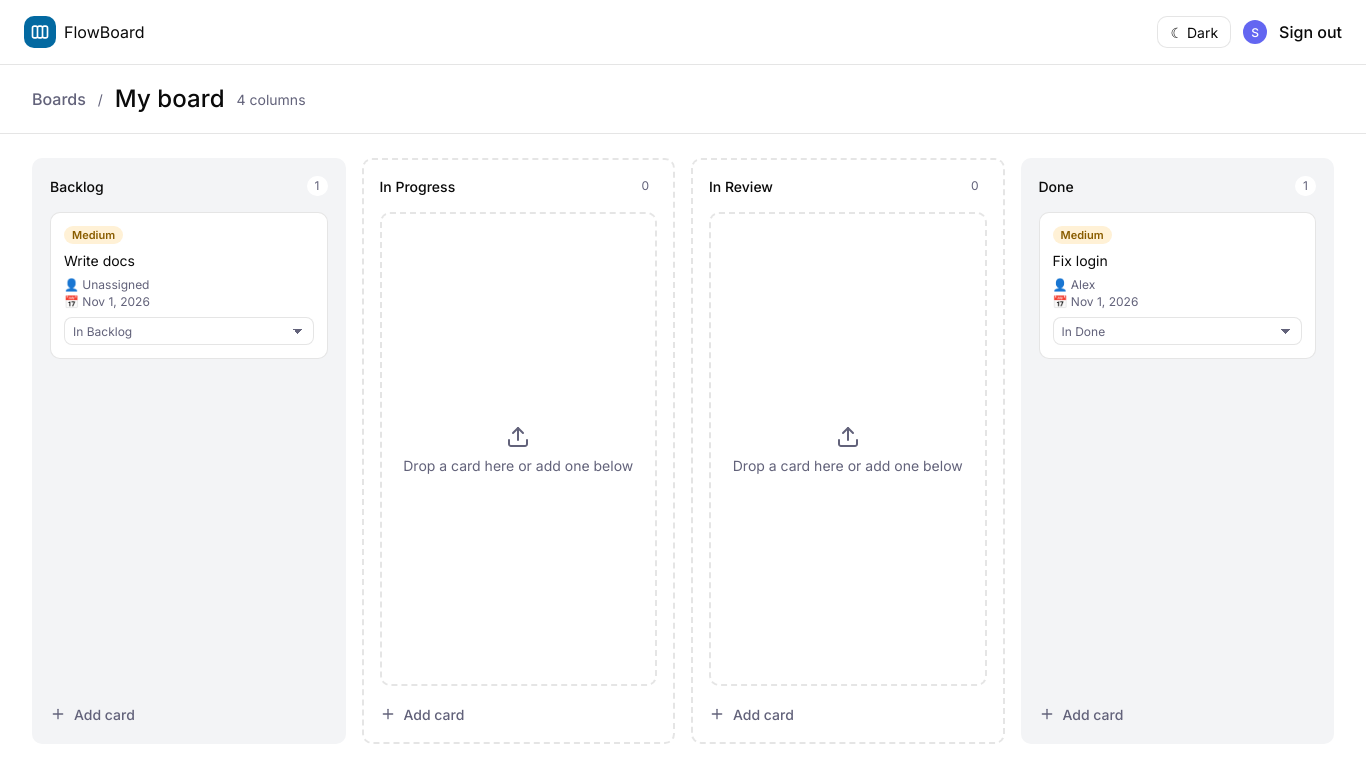
Test: card dialog › marks required fields visibly
Click the button "Write docs": click(189, 260) x1=64 y1=252 x2=314 y2=269
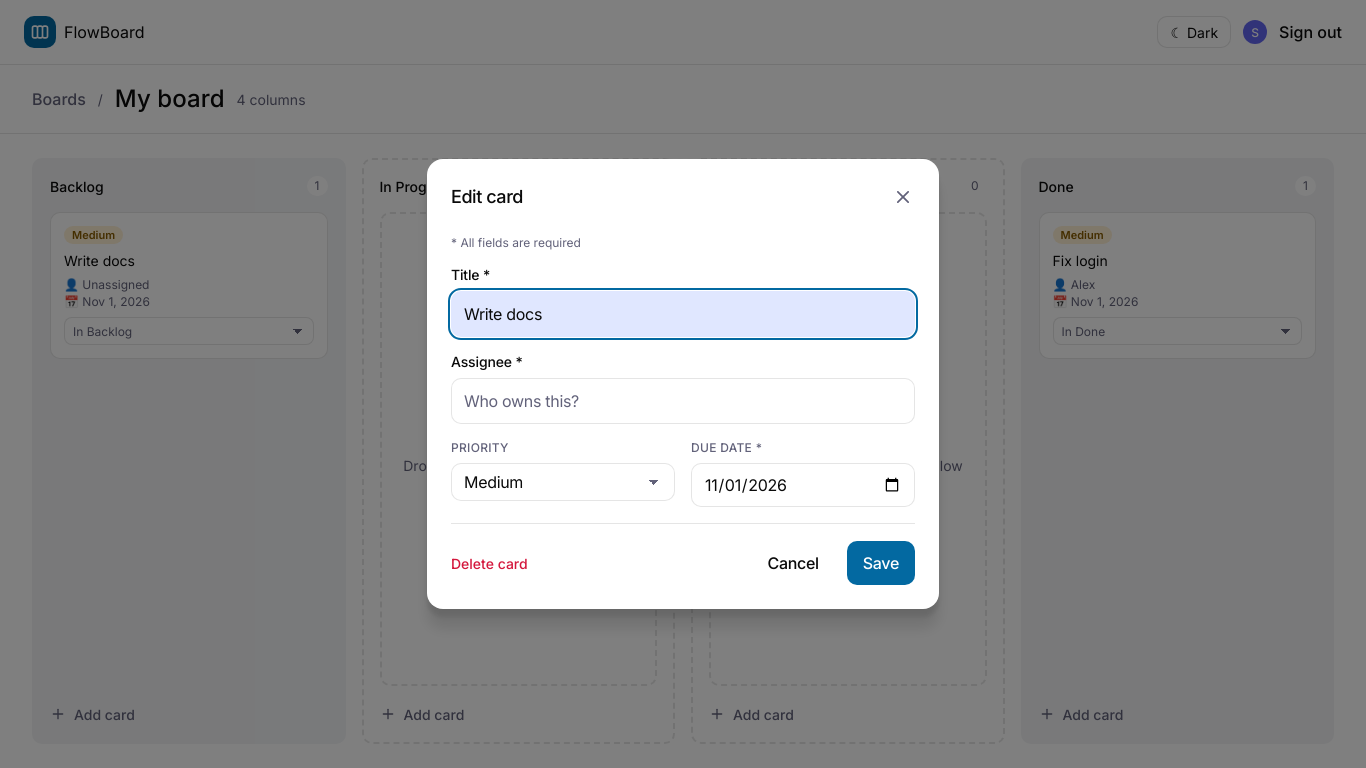
Check: the text "All fields are required" is shown, box x1=457 y1=235 x2=581 y2=250
